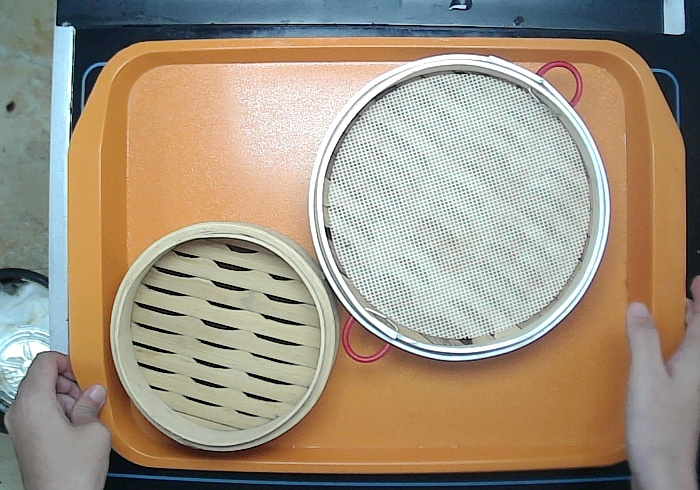ZNLD-Da_Zheng_Long: (304, 45, 618, 370)
ZNLD-Xiao_Zheng_Long: (102, 216, 341, 460)
